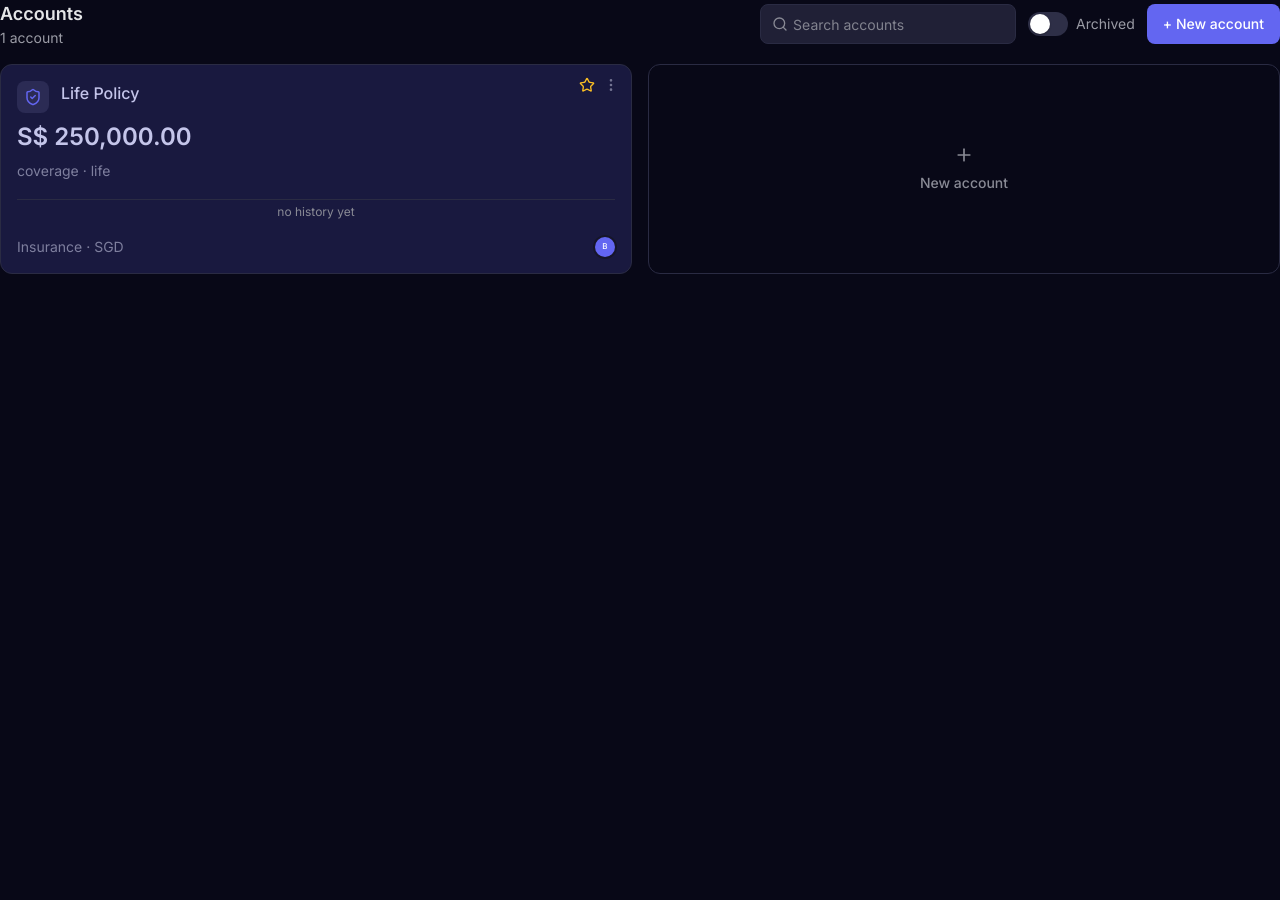
Test: AccountsList › a single-subtype route pre-selects + locks the Type (insurance fields show, dropdown disabled)
Check: the text "Life Policy" is shown, box [61, 83, 139, 103]
Click the button with test id "entity-page-new": click(1213, 24) [1147, 4, 1279, 44]
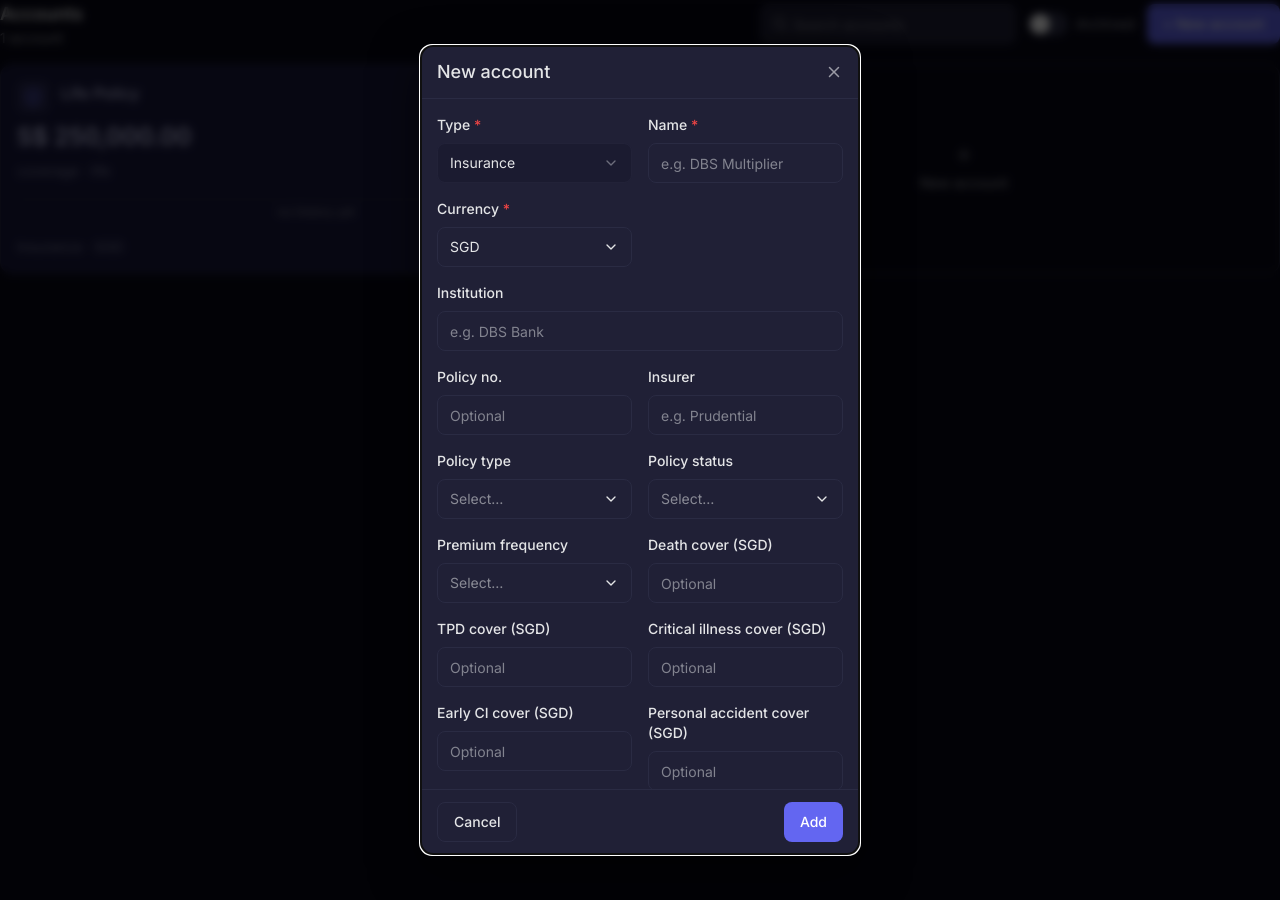
Check: the field labelled "Death cover (SGD)" is shown, box [648, 563, 843, 603]
Check: the button named "Type" is disabled, box [437, 143, 632, 183]
